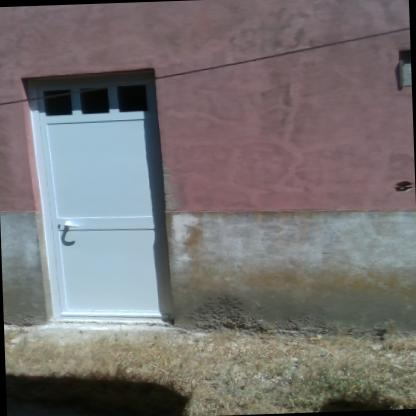closed: (16, 64, 176, 347)
